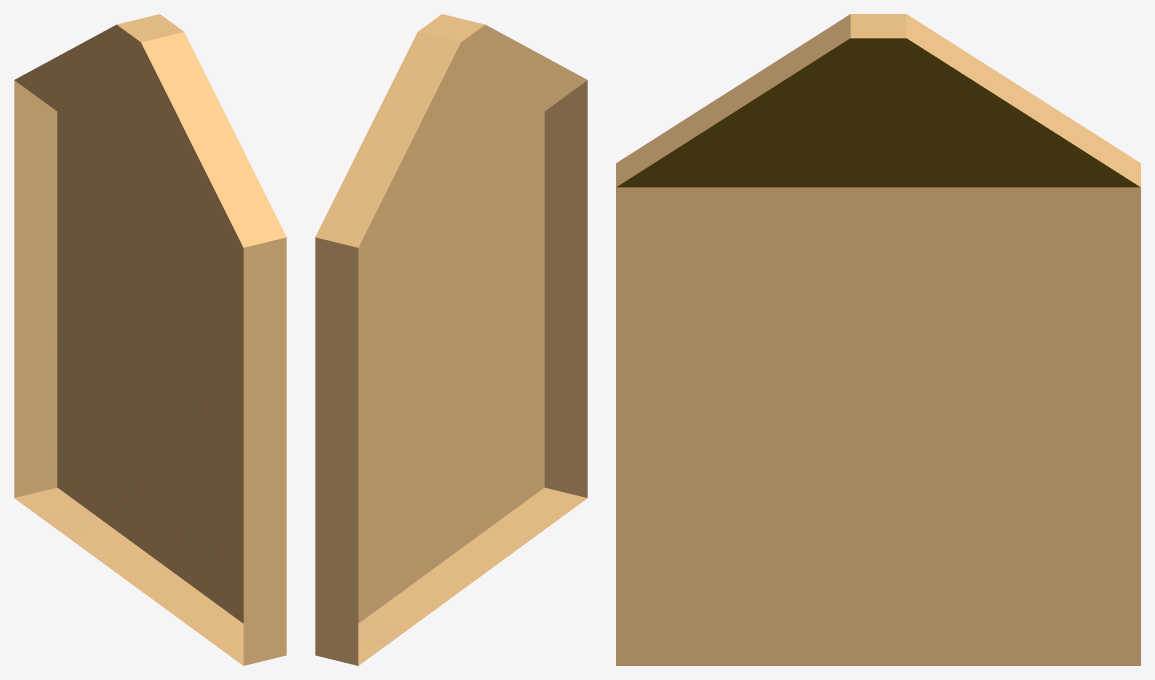
File: SM_BackWall1_LOD0.fbx
3 views of the same model, side by side, from view 1: azimuth 30°, elevation 25°; view 2: azimuth 150°, elevation 25°; view 3: azimuth 270°, elevation 25° (orthographic). The views are drawn at different scales.
Visible parts, largest first — view 1: SM_BackWall1_LOD0; view 2: SM_BackWall1_LOD0; view 3: SM_BackWall1_LOD0.
Part boxes in pixels (x1=…): SM_BackWall1_LOD0: x1=14, y1=14, x2=286, y2=665; SM_BackWall1_LOD0: x1=315, y1=14, x2=587, y2=665; SM_BackWall1_LOD0: x1=616, y1=14, x2=1140, y2=665.
Size of the model in its own units: 0.81 by 9.81 by 7.43.
